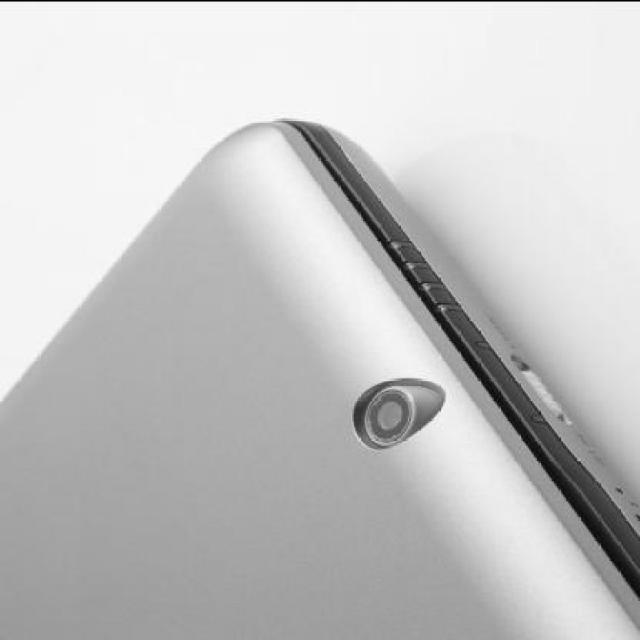fake: (0, 115, 638, 638)
